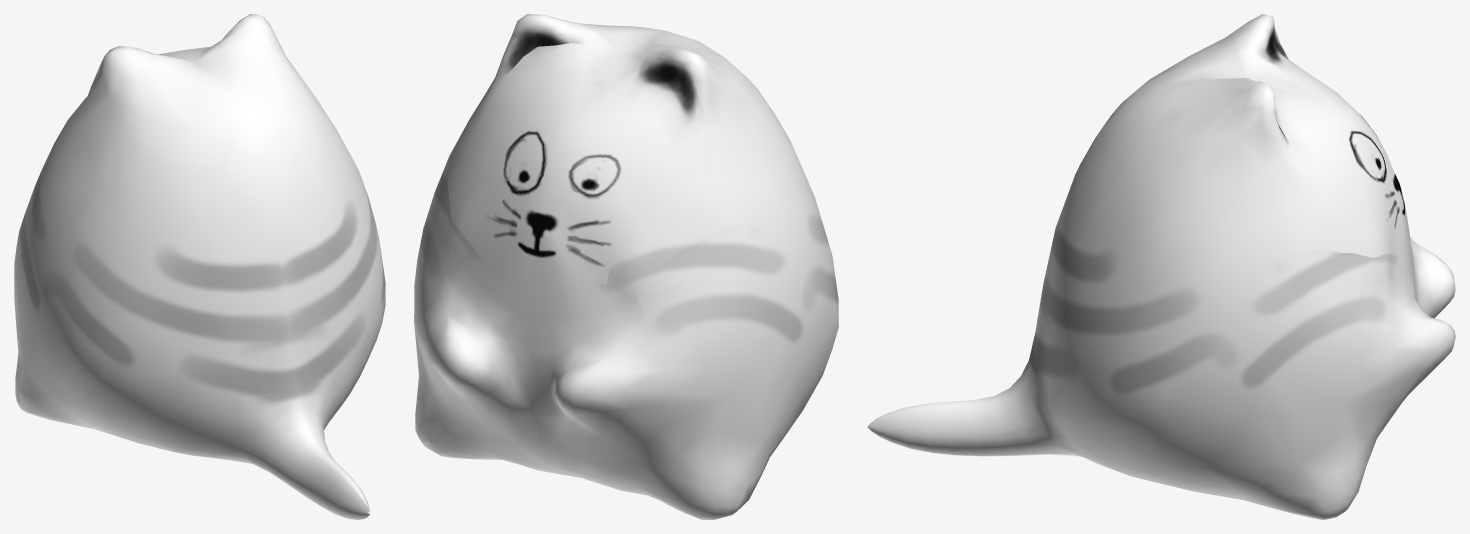
File: Cat01.fbx
The picture shows the model from 3 angles, left to right: view 1: azimuth 30°, elevation 25°; view 2: azimuth 150°, elevation 25°; view 3: azimuth 270°, elevation 25°; orthographic projection. The views are drawn at different scales.
Visible parts, largest first — view 1: Cat01Mesh; view 2: Cat01Mesh; view 3: Cat01Mesh.
Part boxes in pixels (bbox=[...]): Cat01Mesh: bbox=[14, 14, 385, 519]; Cat01Mesh: bbox=[414, 14, 838, 519]; Cat01Mesh: bbox=[867, 14, 1455, 519].
Bounding box in the file's own units: 45.88 × 54.08 × 68.45.
